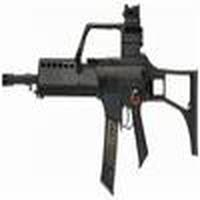gun: (3, 55, 197, 154)
